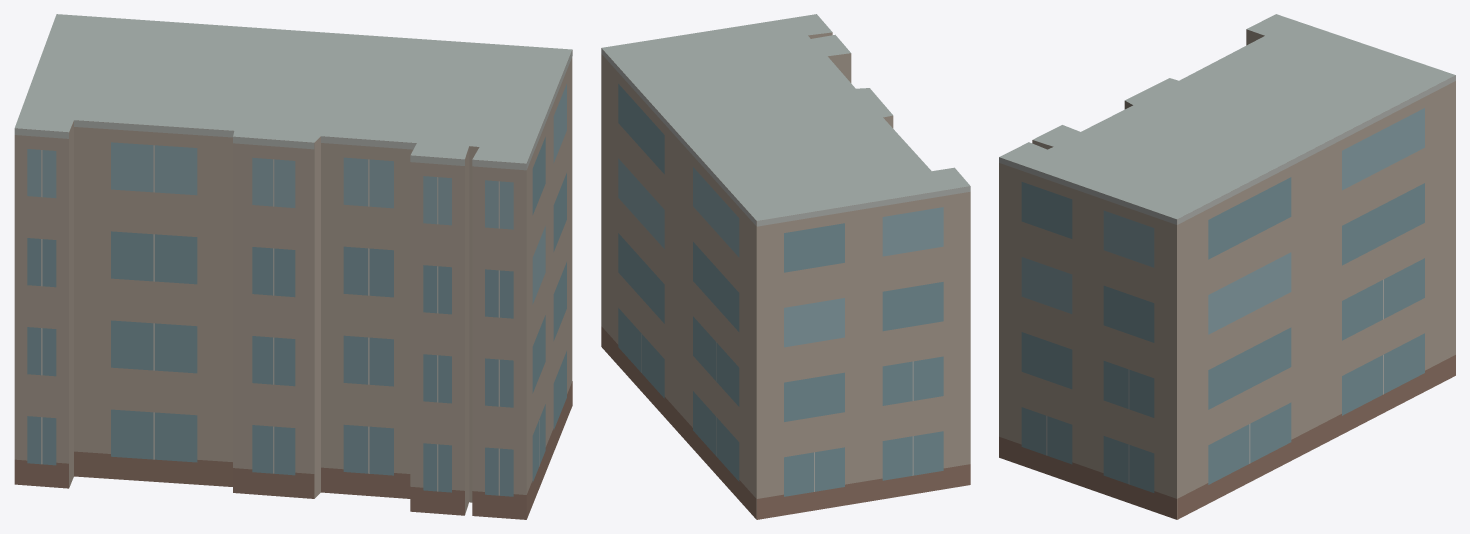
The model's file is survey-upis-32953871.glb.
The picture shows the model from 3 angles, left to right: view 1: azimuth 30°, elevation 25°; view 2: azimuth 150°, elevation 25°; view 3: azimuth 270°, elevation 25°; orthographic projection. The views are drawn at different scales.
Visible parts, largest first — view 1: survey-upis-32953871.tmp; view 2: survey-upis-32953871.tmp; view 3: survey-upis-32953871.tmp.
Boxes of the visible parts, box(x1,y1,x2,y2) form: survey-upis-32953871.tmp: box(14, 14, 572, 519); survey-upis-32953871.tmp: box(601, 14, 970, 519); survey-upis-32953871.tmp: box(999, 14, 1455, 519).
Size of the model in its own units: 18.92 by 12.9 by 17.78.
